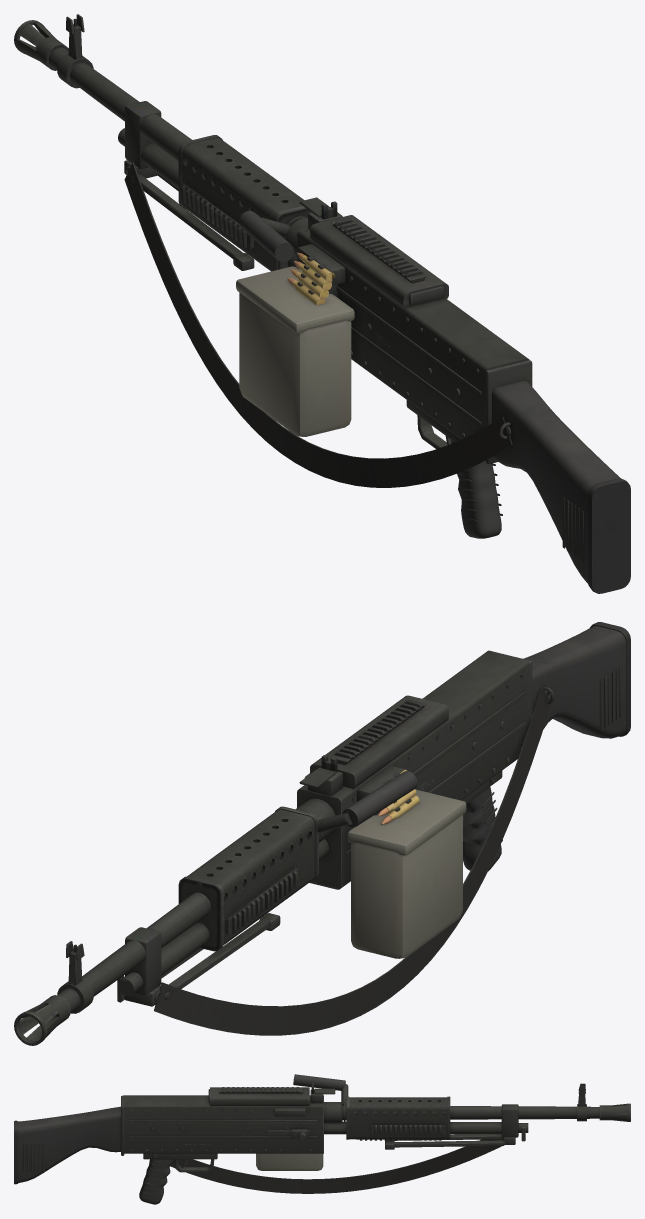
The picture shows the model from 3 angles, top to bottom: view 1: azimuth 30°, elevation 25°; view 2: azimuth 150°, elevation 25°; view 3: azimuth 270°, elevation 25°; orthographic projection. The views are drawn at different scales.
Parts seen in each view (by area): view 1: body, box, cover; view 2: body, box, cover; view 3: body, cover, box.
Boxes of the visible parts, x1,y1,x2,y2 form: body: (14,14,630,593); box: (236,252,354,436); cover: (310,215,448,308); body: (14,622,630,1045); box: (347,769,466,958); cover: (310,695,448,789); body: (14,1074,630,1204); cover: (208,1087,309,1105); box: (256,1153,323,1170).
Bounding box in the file's own units: 0.158 × 0.2736 × 1.25.
Materials: 2 (2 with a texture image).
